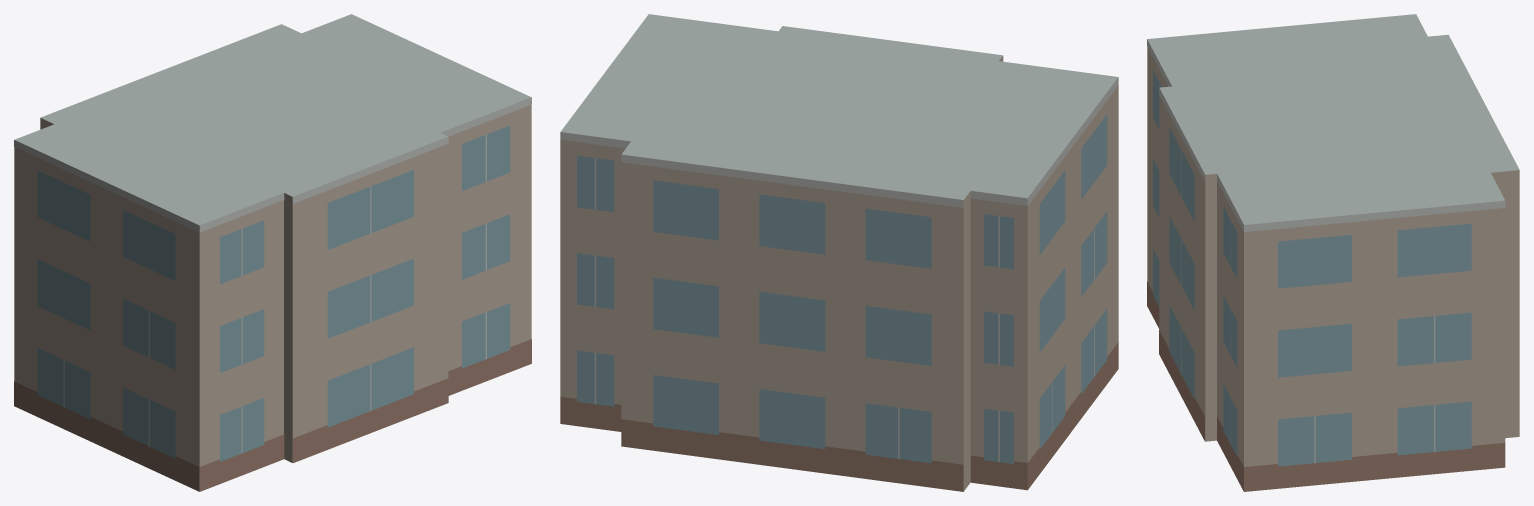
The model's file is survey-upis-32713647.glb.
3 views of the same model, side by side, from view 1: azimuth 30°, elevation 25°; view 2: azimuth 150°, elevation 25°; view 3: azimuth 270°, elevation 25° (orthographic). The views are drawn at different scales.
Visible parts, largest first — view 1: survey-upis-32713647.tmp; view 2: survey-upis-32713647.tmp; view 3: survey-upis-32713647.tmp.
Boxes of the visible parts, left/top/right/bottom form: survey-upis-32713647.tmp: left=14, top=14, right=531, bottom=491; survey-upis-32713647.tmp: left=560, top=14, right=1118, bottom=491; survey-upis-32713647.tmp: left=1147, top=14, right=1519, bottom=491.
Size of the model in its own units: 15.53 by 9.15 by 11.59.
